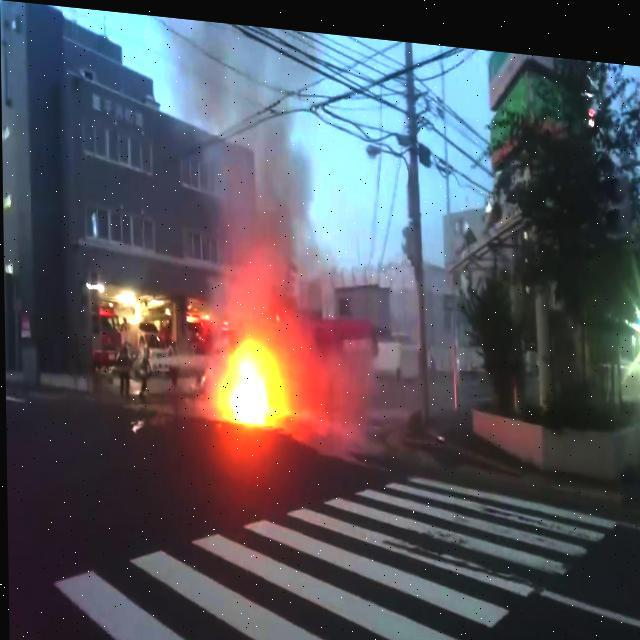Fire: (221, 335, 291, 418)
